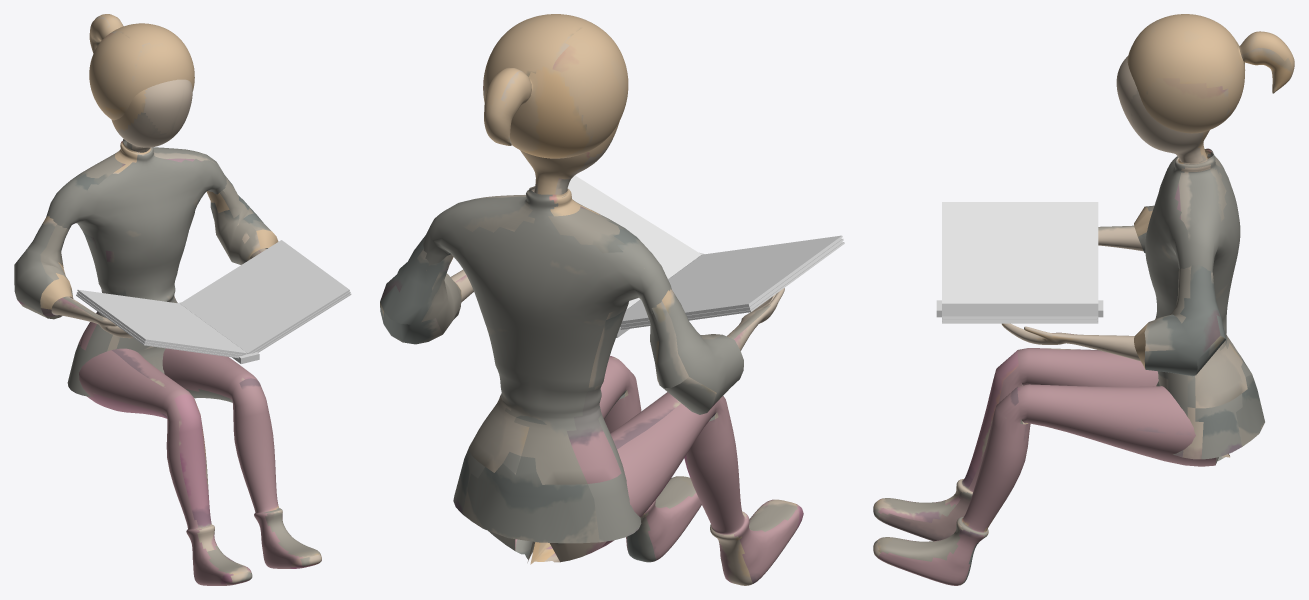
The model's file is mira.fbx.
3 views of the same model, side by side, from view 1: azimuth 30°, elevation 25°; view 2: azimuth 150°, elevation 25°; view 3: azimuth 270°, elevation 25° (orthographic). The views are drawn at different scales.
Visible parts, largest first — view 1: Girl_1, Cube, Cube_1; view 2: Girl_1, Cube_1, Cube; view 3: Girl_1, Cube_1, Cube.
Boxes of the visible parts, x1=… form: Girl_1: x1=14, y1=14, x2=321, y2=585; Cube: x1=180, y1=240, x2=351, y2=353; Cube_1: x1=76, y1=289, x2=247, y2=358; Girl_1: x1=380, y1=14, x2=803, y2=585; Cube_1: x1=620, y1=235, x2=844, y2=329; Cube: x1=524, y1=175, x2=701, y2=309; Girl_1: x1=873, y1=14, x2=1294, y2=585; Cube_1: x1=942, y1=202, x2=1098, y2=303; Cube: x1=942, y1=303, x2=1098, y2=323.
Size of the model in its own units: 51.9 by 95.78 by 67.42.
